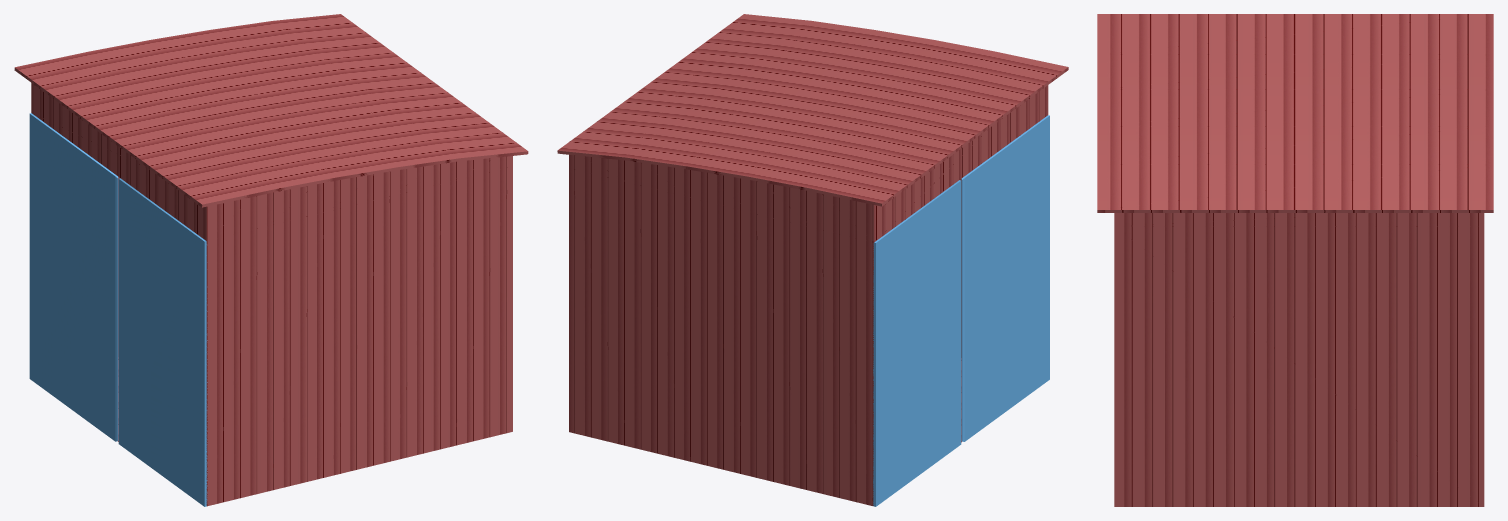
Rendered from 铁皮房.fbx.
The picture shows the model from 3 angles, left to right: view 1: azimuth 30°, elevation 25°; view 2: azimuth 150°, elevation 25°; view 3: azimuth 270°, elevation 25°; orthographic projection. The views are drawn at different scales.
Visible parts, largest first — view 1: Box501, 对象623, 对象624, 对象625; view 2: Box501, 对象623, 对象625, 对象624; view 3: Box501, 对象623.
Part boxes in pixels (box(x1,y1,x2,y2)): Box501: box(31, 83, 512, 506); 对象623: box(14, 14, 528, 207); 对象624: box(29, 113, 207, 506); 对象625: box(118, 178, 207, 506); Box501: box(569, 85, 1048, 505); 对象623: box(557, 14, 1068, 206); 对象625: box(961, 115, 1049, 441); 对象624: box(873, 180, 961, 506); Box501: box(1114, 213, 1484, 506); 对象623: box(1097, 14, 1493, 212).
Bounding box in the file's own units: 12.58 × 11.45 × 12.53.
Materials: 2 (1 with a texture image).
